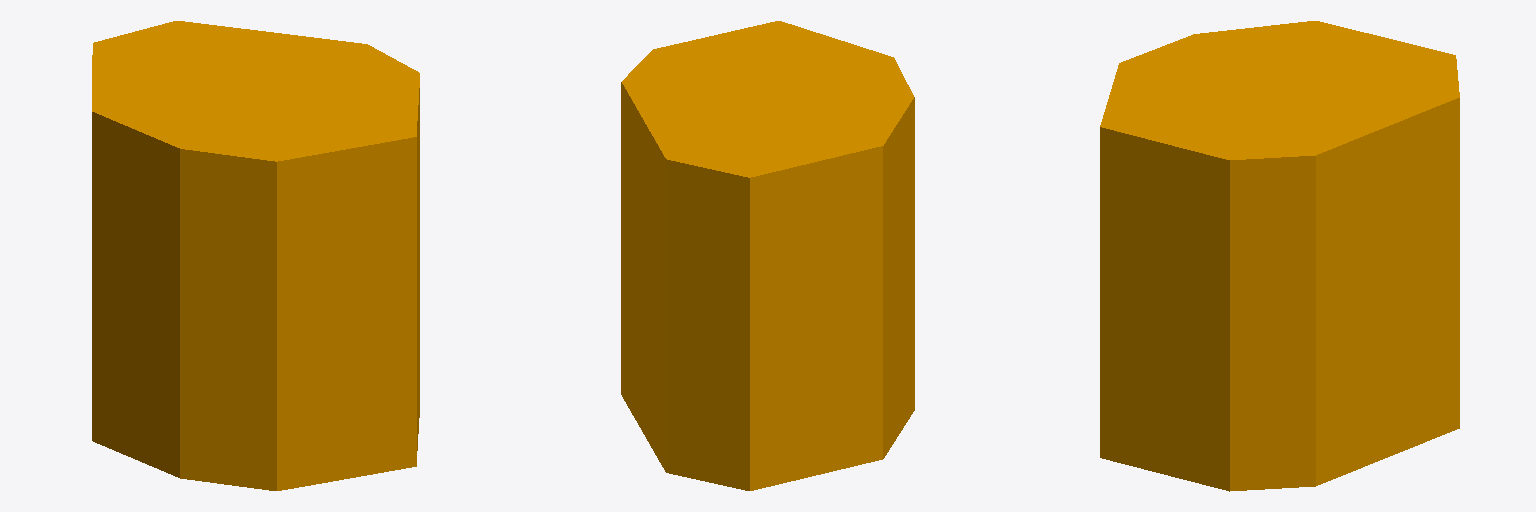
The robot description file, URDF, robot "object":
<?xml version="1.0"?>
<robot name="object">
  <link name="object">
    <visual>
      <origin xyz="0 0 0"/>
      <geometry>
        <mesh filename="meshes/generated/col_123.obj" scale="0.03 0.03 0.03"/>
      </geometry>
    </visual>
    <collision>
      <origin xyz="0 0 0"/>
      <geometry>
        <mesh filename="meshes/generated/col_123.obj" scale="0.03 0.03 0.03"/>
      </geometry>
    </collision>
    <inertial>
      <density value="1000.0"/>
    </inertial>
  </link>
</robot>

--- Facts derived from the render (not from the file) ---
Views: 3 orthographic renders of the robot side by side, from view 1: azimuth 30°, elevation 25°; view 2: azimuth 150°, elevation 25°; view 3: azimuth 270°, elevation 25°.
Robot: object — 1 links, 0 joints (none); root link object; default pose: all joints at 0.
Links seen in each view (by area): view 1: object; view 2: object; view 3: object.
Boxes of the visible links, left/top/right/bottom form: object: left=92, top=21, right=419, bottom=490; object: left=621, top=21, right=914, bottom=490; object: left=1100, top=21, right=1459, bottom=491.
Bounding box of the posed robot: 0.0544 × 0.0591 × 0.06 m (x, y, z).
Meshes: 1 distinct files referenced, 1 mesh visuals loaded (1 OBJ).
